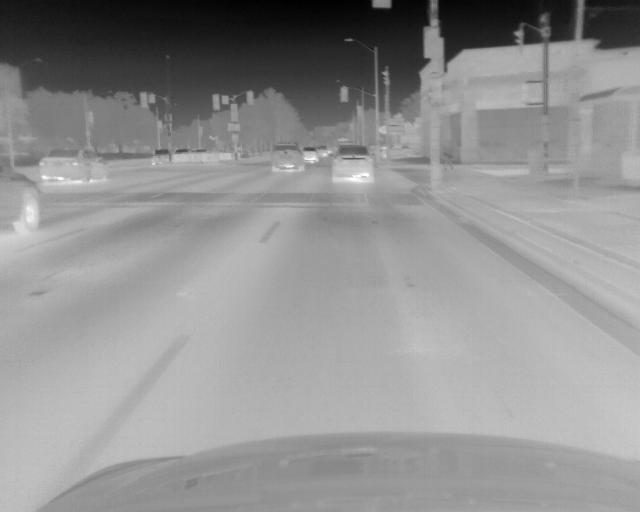car: (1, 156, 44, 234), (39, 147, 110, 182), (330, 145, 375, 184), (269, 142, 306, 174), (149, 148, 173, 167), (300, 147, 319, 164), (319, 146, 328, 159)
people: (441, 135, 455, 173)
